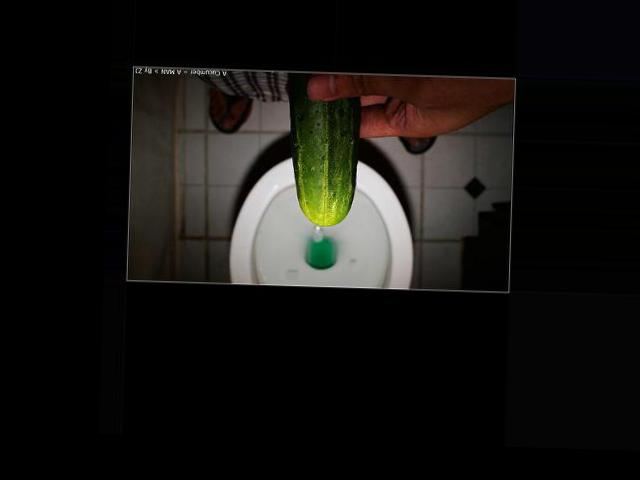cucumber: (283, 69, 360, 226)
